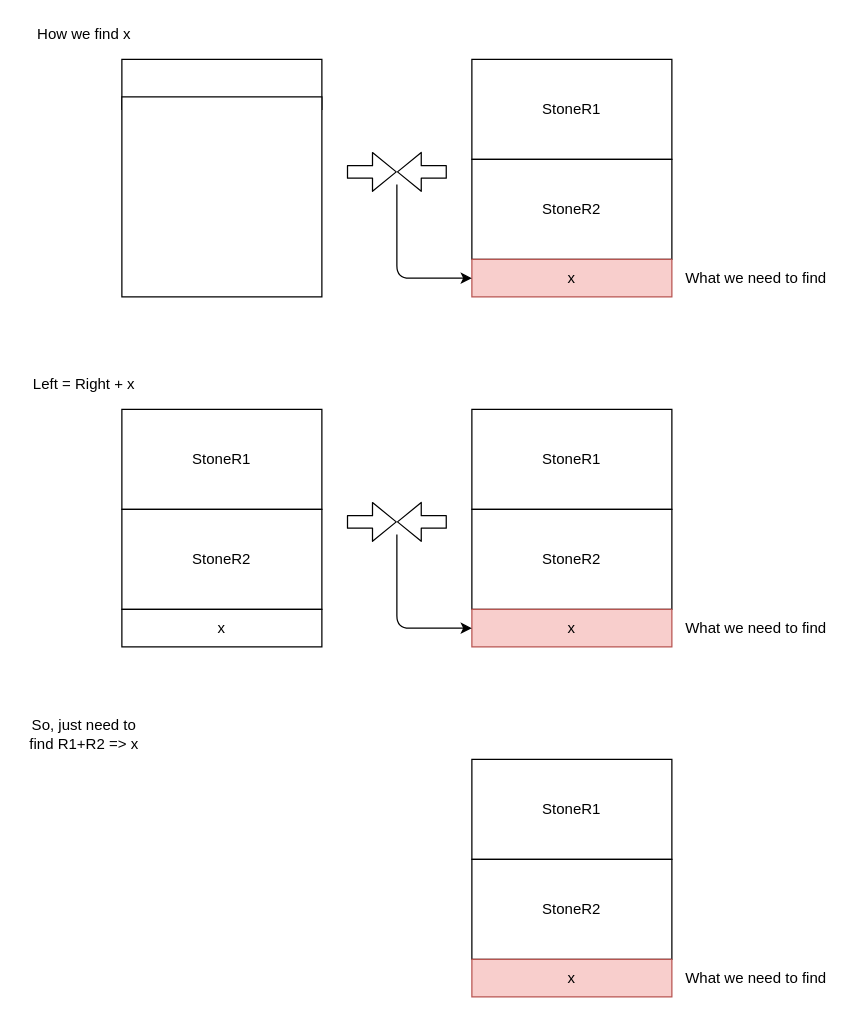
The diagram is 855 pixels wide and 1019 high, and some of its shapes have lost their labels. The box of each missing label's shape, as (x1, y1, x2, y2) in pixels:
StoneL1: (121, 58, 322, 109)
StoneL2: (121, 96, 322, 297)
